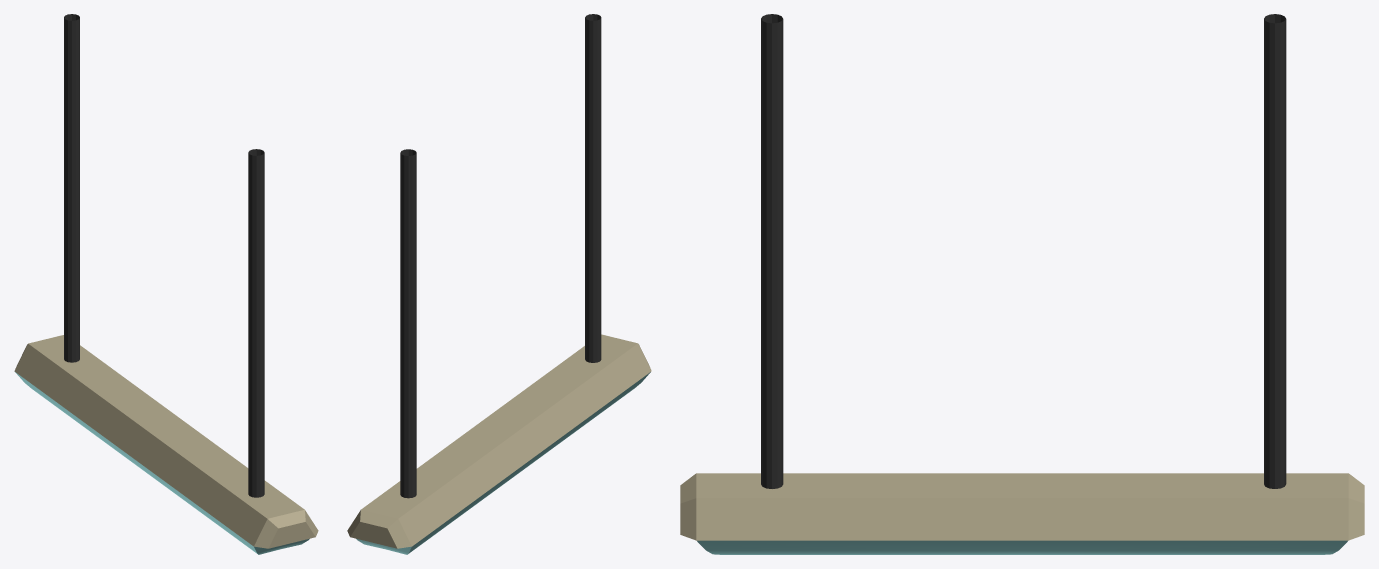
File: P_Spot.fbx
The picture shows the model from 3 angles, left to right: view 1: azimuth 30°, elevation 25°; view 2: azimuth 150°, elevation 25°; view 3: azimuth 270°, elevation 25°; orthographic projection. The views are drawn at different scales.
Visible parts, largest first — view 1: P_Spot; view 2: P_Spot; view 3: P_Spot.
Part boxes in pixels (x1,y1,x2,y2): P_Spot: [14, 14, 318, 554]; P_Spot: [347, 14, 651, 554]; P_Spot: [680, 14, 1364, 554].
Size of the model in its own units: 0.1496 by 0.8515 by 1.
